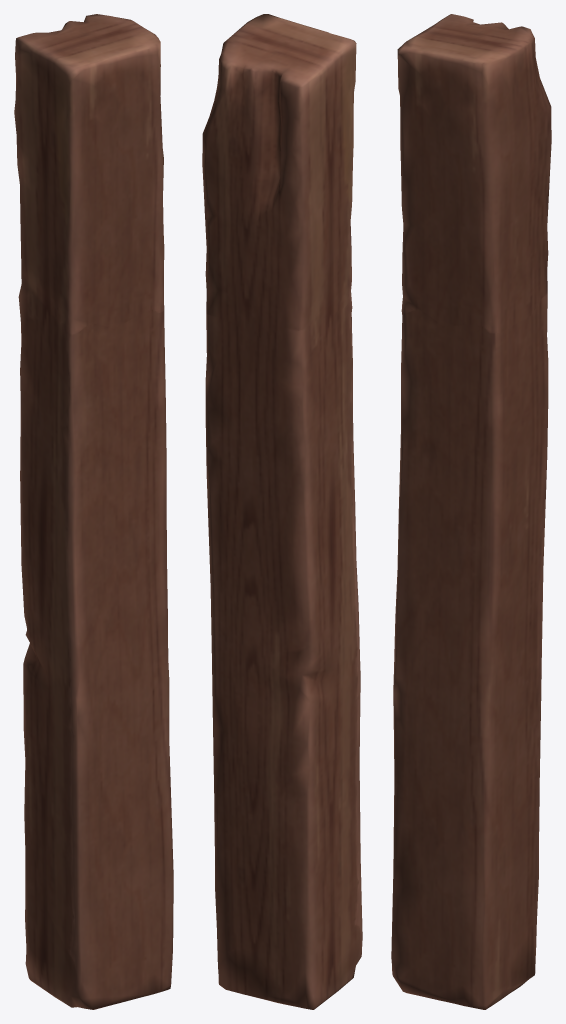
Rendered from SM_Beams_07.fbx.
The picture shows the model from 3 angles, left to right: view 1: azimuth 30°, elevation 25°; view 2: azimuth 150°, elevation 25°; view 3: azimuth 330°, elevation 25°; orthographic projection.
Visible parts, largest first — view 1: SM_Beams_07_LOD0; view 2: SM_Beams_07_LOD0; view 3: SM_Beams_07_LOD0.
Part boxes in pixels (x1,y1,x2,y2): SM_Beams_07_LOD0: (14, 14, 173, 1009); SM_Beams_07_LOD0: (202, 14, 362, 1009); SM_Beams_07_LOD0: (391, 14, 551, 1009).
Bounding box in the file's own units: 15.42 × 16.78 × 134.
1 material, 1 textured.
